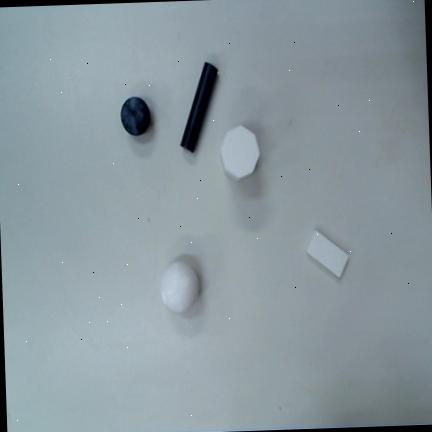Cilindro: (180, 62, 219, 152)
Esfera: (161, 260, 199, 313), (121, 96, 150, 135)
Paralelepipedo: (306, 230, 348, 278)
Prisma_hexagonal: (220, 125, 259, 180)
